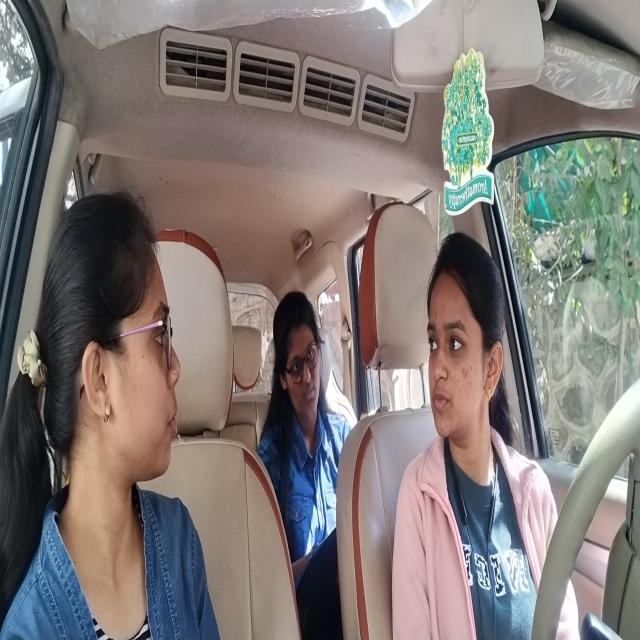LeftRight: (426, 231, 509, 448)
person: (34, 182, 182, 503), (275, 288, 320, 438)
